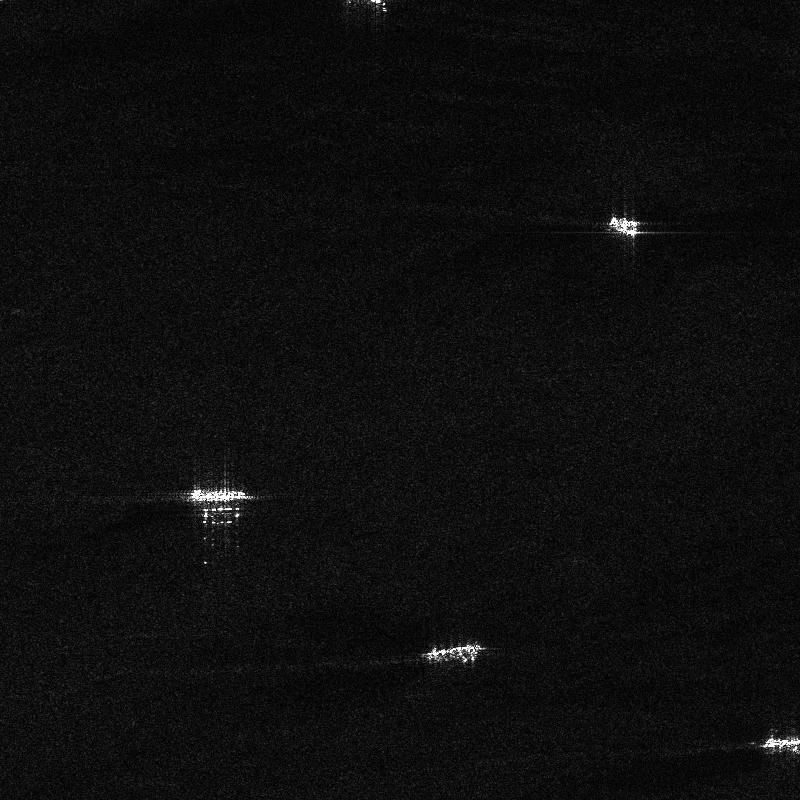ship: (426, 644, 481, 663), (190, 489, 252, 501), (609, 216, 637, 236), (763, 737, 799, 748)
